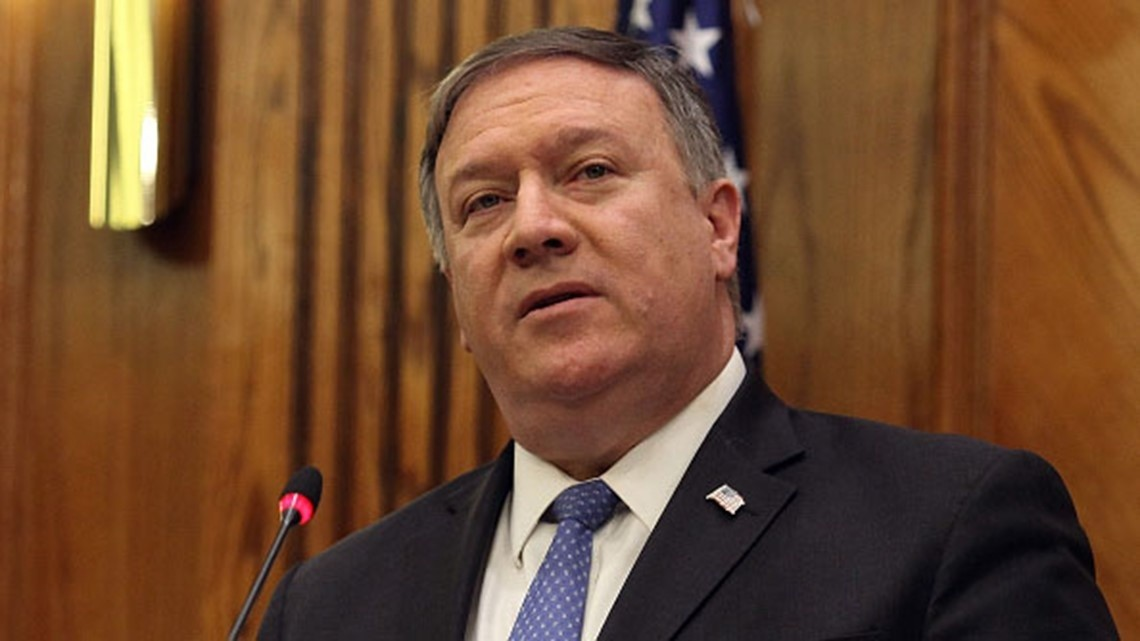face_no_mask: (425, 26, 739, 407)
